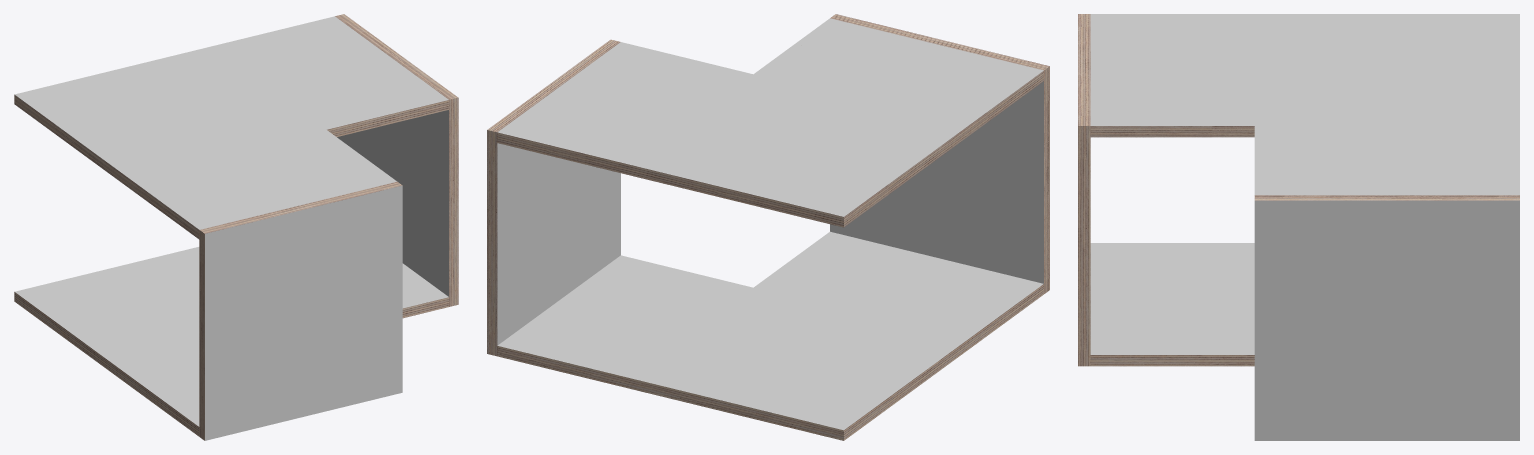
File: Corner Open.fbx
The picture shows the model from 3 angles, left to right: view 1: azimuth 30°, elevation 25°; view 2: azimuth 150°, elevation 25°; view 3: azimuth 270°, elevation 25°; orthographic projection. The views are drawn at different scales.
Parts seen in each view (by area): view 1: Corner TM, Corner TL, Corner BM, Corner BL, Corner L, Corner TR.001, Corner TMR, Corner TML, Corner R, Croner BR, Corner BML; view 2: Corner TM, Corner BM, Corner BL, Croner BR, Corner TR.001, Corner TL, Corner BMR, Corner TMR, Corner BML, Corner TML, Corner R, Corner L; view 3: Corner TR.001, Corner TM, Corner R, Croner BR, Corner TL, Corner TML, Corner BML, Corner BL, Corner TMR, Corner L.
Boxes of the visible parts, bbox=[...] form: Corner TM: bbox=[14, 46, 326, 187]; Corner TL: bbox=[166, 157, 402, 302]; Corner BM: bbox=[14, 247, 199, 384]; Corner BL: bbox=[166, 323, 402, 440]; Corner L: bbox=[199, 254, 402, 371]; Corner TR.001: bbox=[278, 14, 458, 168]; Corner TMR: bbox=[212, 30, 392, 136]; Corner TML: bbox=[128, 130, 364, 215]; Corner R: bbox=[337, 124, 458, 237]; Croner BR: bbox=[402, 204, 458, 318]; Corner BML: bbox=[128, 358, 199, 412]; Corner TM: bbox=[630, 74, 967, 227]; Corner BM: bbox=[630, 287, 967, 440]; Corner BL: bbox=[795, 185, 1049, 319]; Croner BR: bbox=[487, 191, 681, 370]; Corner TR.001: bbox=[487, 39, 681, 206]; Corner TL: bbox=[795, 14, 1049, 144]; Corner BMR: bbox=[558, 270, 752, 388]; Corner TMR: bbox=[558, 57, 752, 175]; Corner BML: bbox=[754, 257, 1008, 350]; Corner TML: bbox=[754, 44, 1008, 136]; Corner R: bbox=[487, 159, 620, 281]; Corner L: bbox=[902, 129, 1049, 219]; Corner TR.001: bbox=[1254, 163, 1519, 280]; Corner TM: bbox=[1254, 14, 1519, 125]; Corner R: bbox=[1254, 280, 1519, 360]; Croner BR: bbox=[1254, 361, 1519, 440]; Corner TL: bbox=[1078, 14, 1166, 205]; Corner TML: bbox=[1166, 14, 1254, 137]; Corner BML: bbox=[1166, 243, 1254, 366]; Corner BL: bbox=[1078, 243, 1166, 366]; Corner TMR: bbox=[1254, 126, 1519, 163]; Corner L: bbox=[1078, 206, 1090, 286].
Size of the model in its own units: 66.67 by 40 by 66.67.
